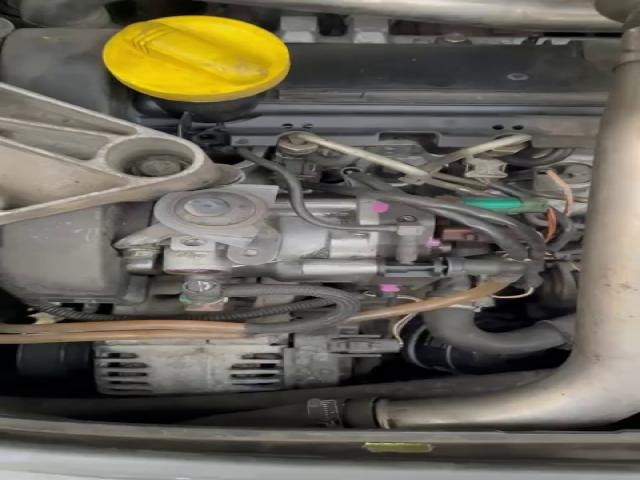alternator: (93, 335, 286, 395)
high_pressure_pump: (161, 198, 528, 296)
